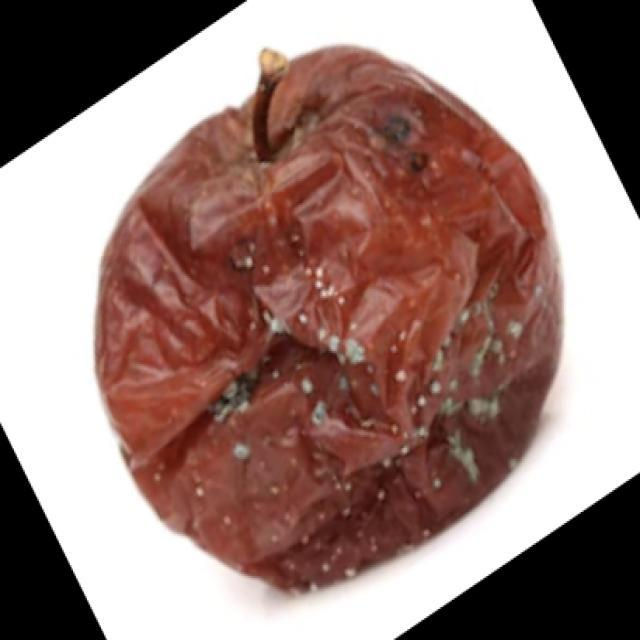Rotten: (115, 43, 555, 555)
